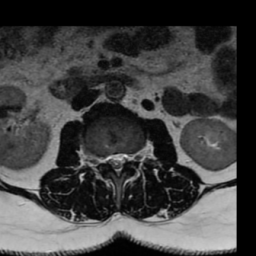CCS_normal: (113, 148, 121, 180)
LFS_normal: (129, 147, 136, 167)
LLS_normal: (121, 148, 129, 170)
RFS_normal: (98, 149, 106, 169)
RLS_normal: (106, 148, 113, 170)
